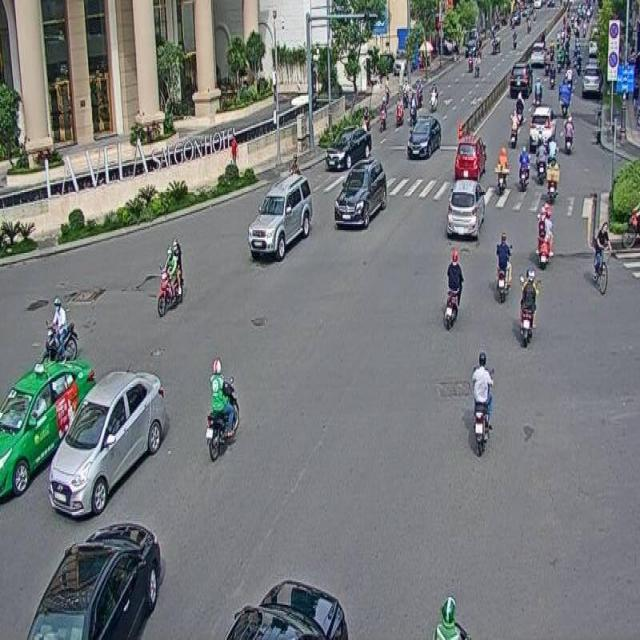car: (51, 370, 168, 520), (22, 521, 162, 640), (0, 358, 98, 503), (247, 171, 313, 262), (332, 154, 387, 230), (446, 175, 484, 241)
motorcycle: (200, 354, 238, 460), (467, 348, 494, 457), (41, 296, 77, 367), (156, 239, 182, 317), (441, 248, 464, 329), (518, 268, 538, 346), (494, 232, 512, 302)
